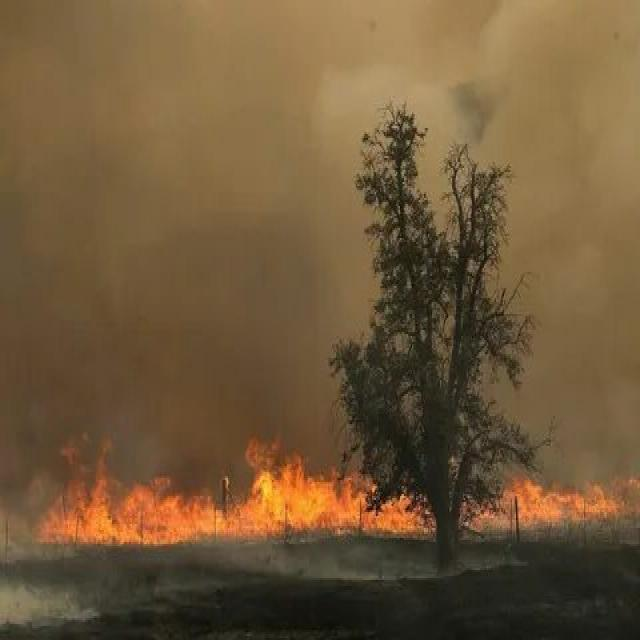Fire: (19, 422, 434, 550), (424, 440, 640, 543)
Smoke: (0, 0, 339, 400)
